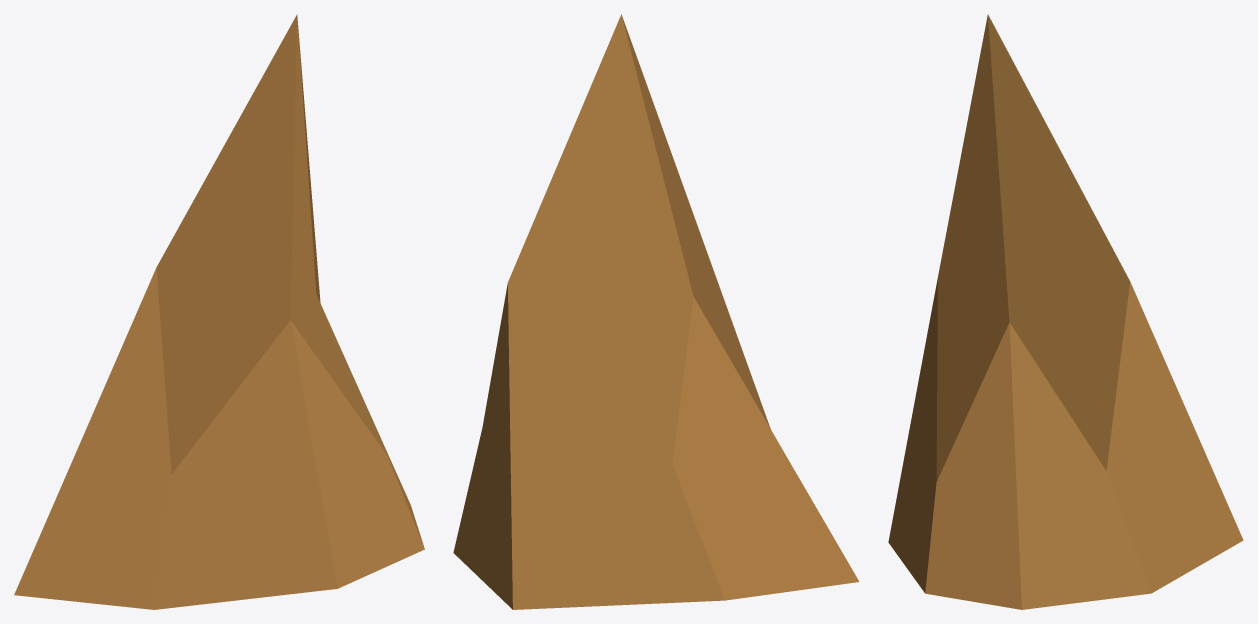
File: estalag 5.fbx
3 renders of one model, left to right at view 1: azimuth 30°, elevation 25°; view 2: azimuth 150°, elevation 25°; view 3: azimuth 270°, elevation 25°, orthographic. The views are drawn at different scales.
Parts seen in each view (by area): view 1: estalagmite.4; view 2: estalagmite.4; view 3: estalagmite.4.
Part boxes in pixels (bbox=[...]): estalagmite.4: bbox=[14, 14, 424, 609]; estalagmite.4: bbox=[453, 14, 859, 609]; estalagmite.4: bbox=[888, 14, 1243, 609].
Size of the model in its own units: 629 by 808 by 488.
